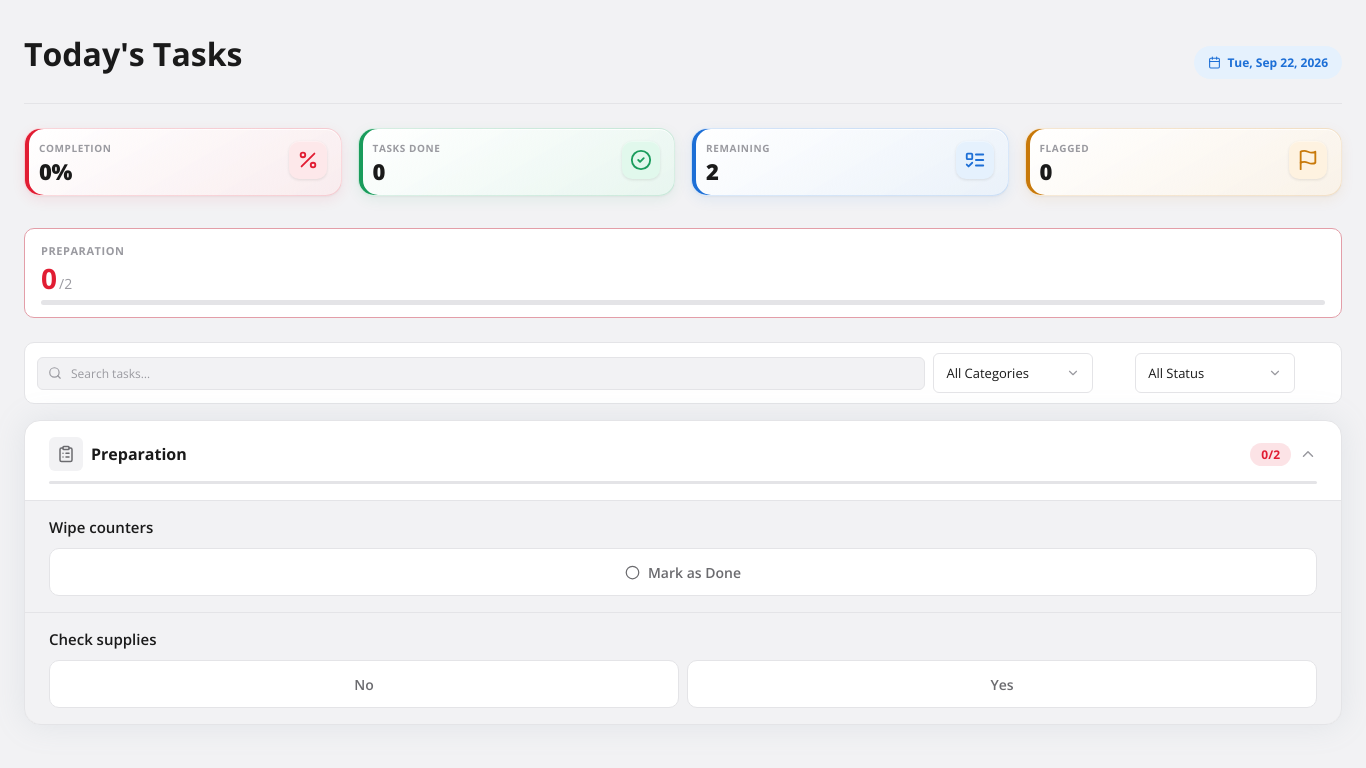
Test: Daily progress indicator › updates the overall and category counts immediately after a task submission, with no page reload
Expected: the text "0%" is shown, 39,156 -> 72,186
Expected: the text "0/2" is shown, 1250,443 -> 1291,466
Click the button "Mark as Done": (683, 572) 49,548 -> 1317,596
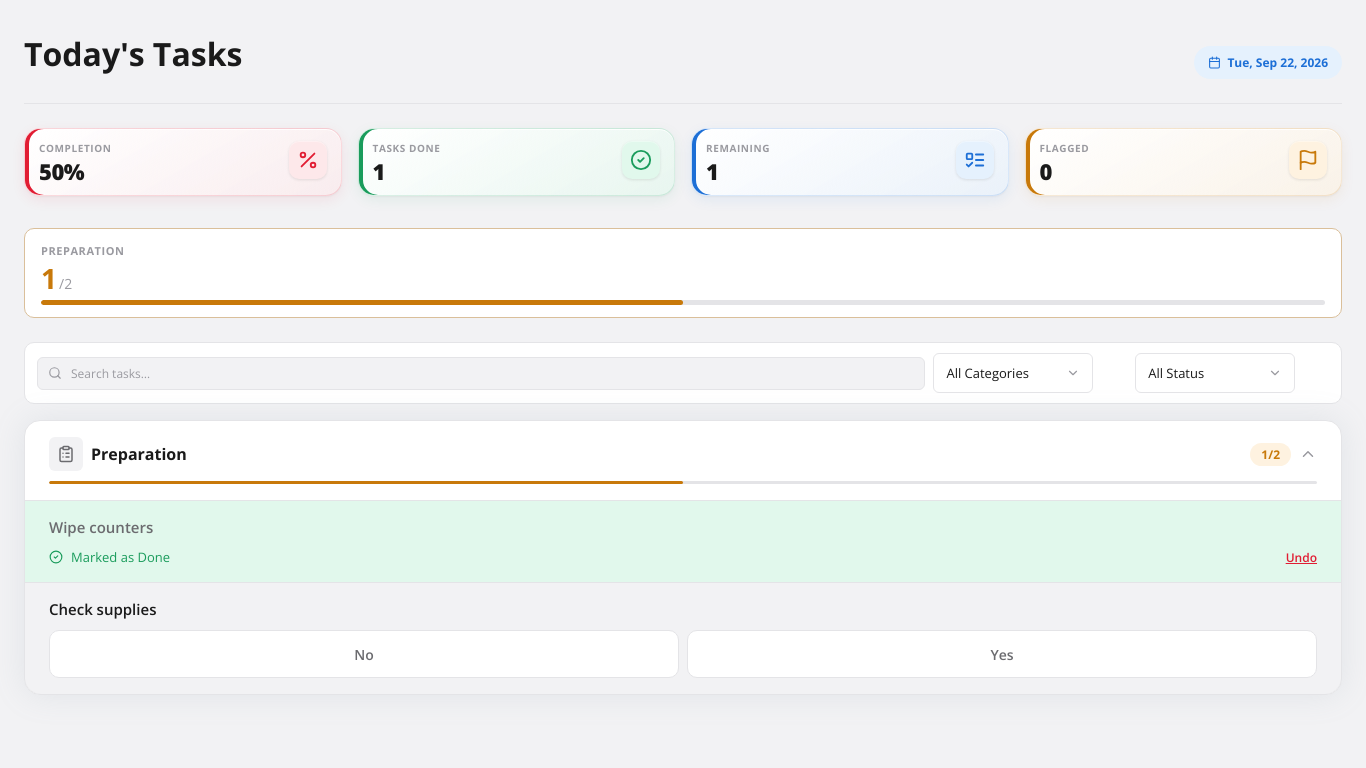
Expected: the text "50%" is shown, 39,156 -> 84,186
Expected: the text "1/2" is shown, 1250,443 -> 1291,466
